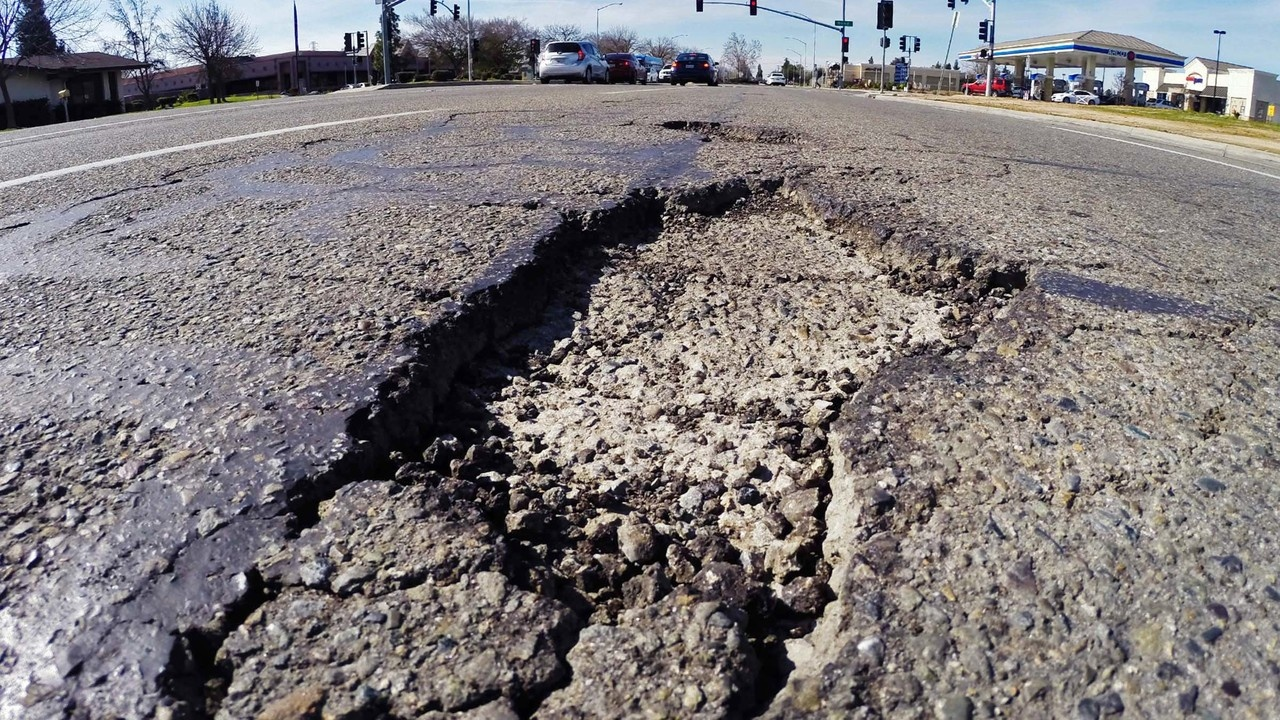pothole: (316, 197, 1077, 688)
